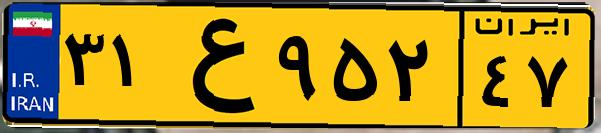1: (110, 28, 158, 98)
2: (385, 28, 445, 110)
3: (57, 26, 110, 100)
4: (475, 38, 525, 113)
5: (330, 28, 385, 110)
7: (525, 38, 570, 115)
9: (270, 28, 330, 110)
ع: (158, 12, 270, 120)
